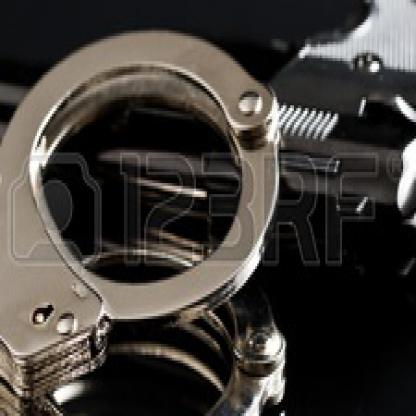gun: (0, 0, 414, 269)
